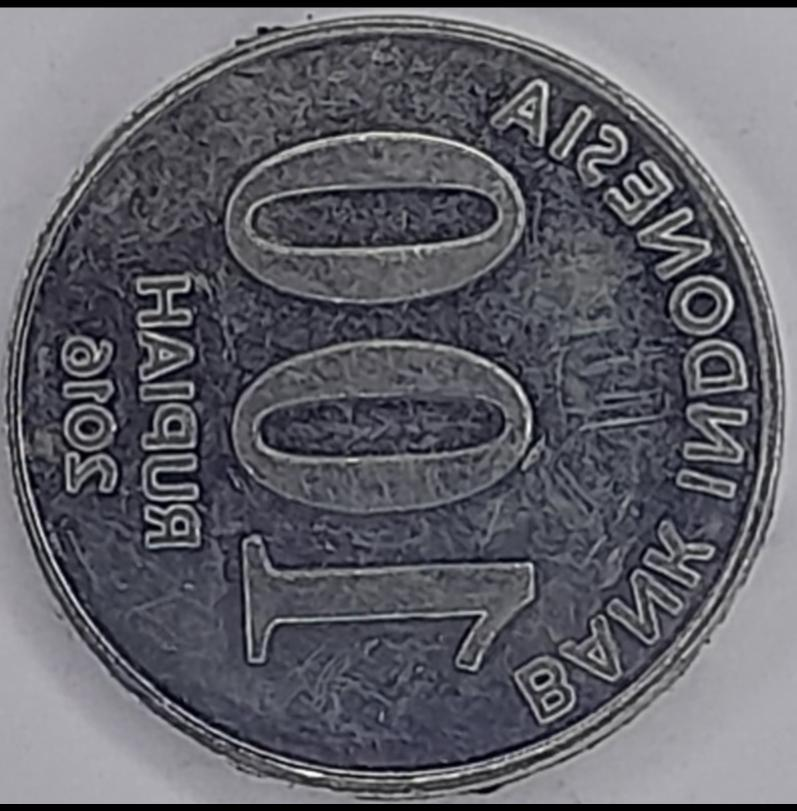coin_100_e2016: (0, 8, 790, 799)
